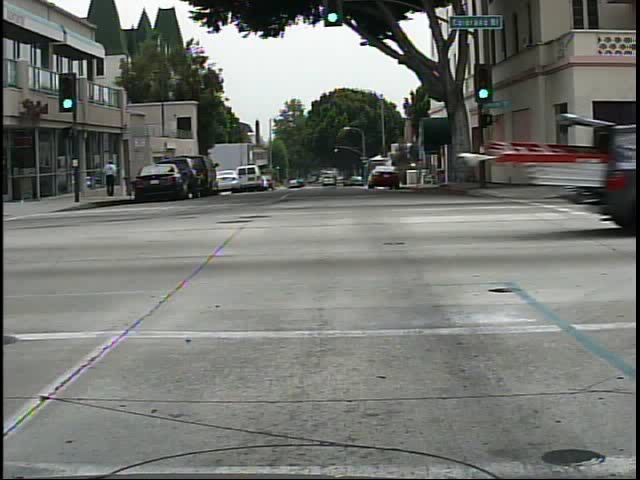person: (452, 142, 479, 197), (99, 153, 125, 201)
